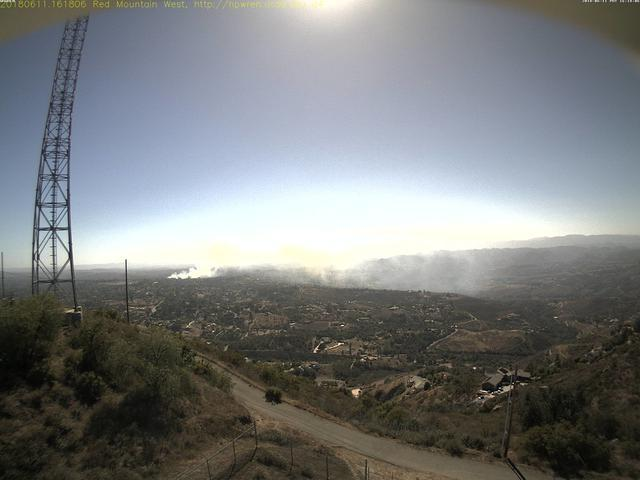smoke: (169, 248, 370, 288)
